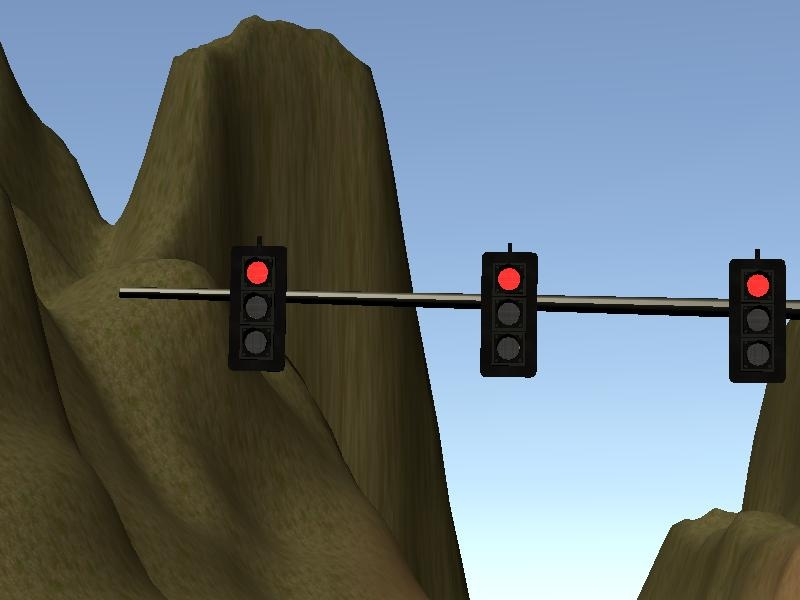red: (721, 241, 796, 391), (474, 233, 543, 386), (223, 233, 292, 380)
